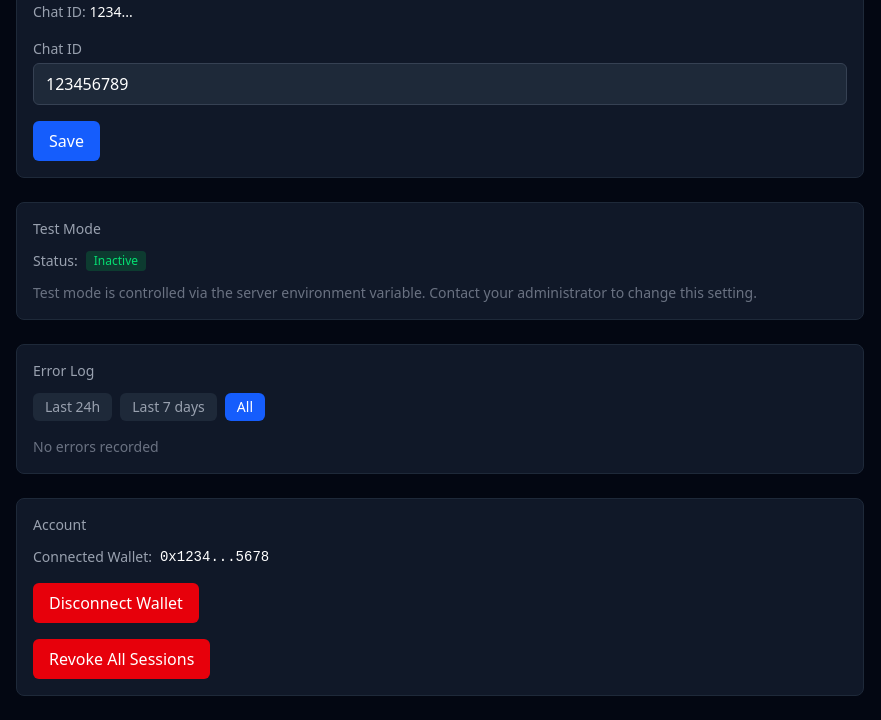
Scenario: SettingsPage - Account › hides disconnect confirmation on cancel
(page scrolled)
Click the button "Disconnect Wallet" at [116, 603], box [33,583,199,623]
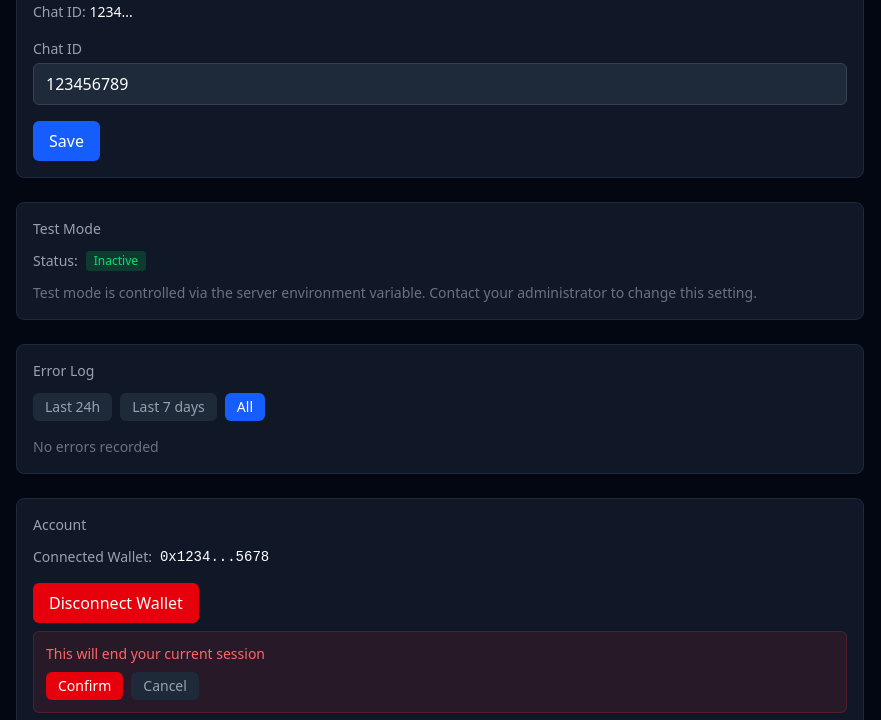
Check: the text "This will end your current session" is shown, box [46,644,265,663]
Click the button "Cancel" at [165, 686], box [131,672,199,700]
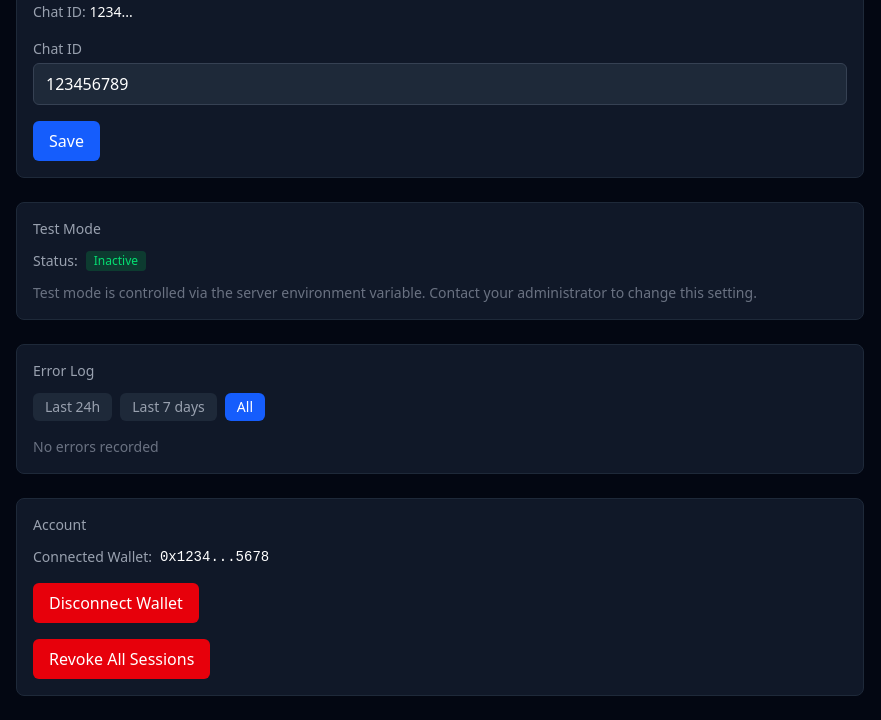
Check: the text "This will end your current session" is gone
